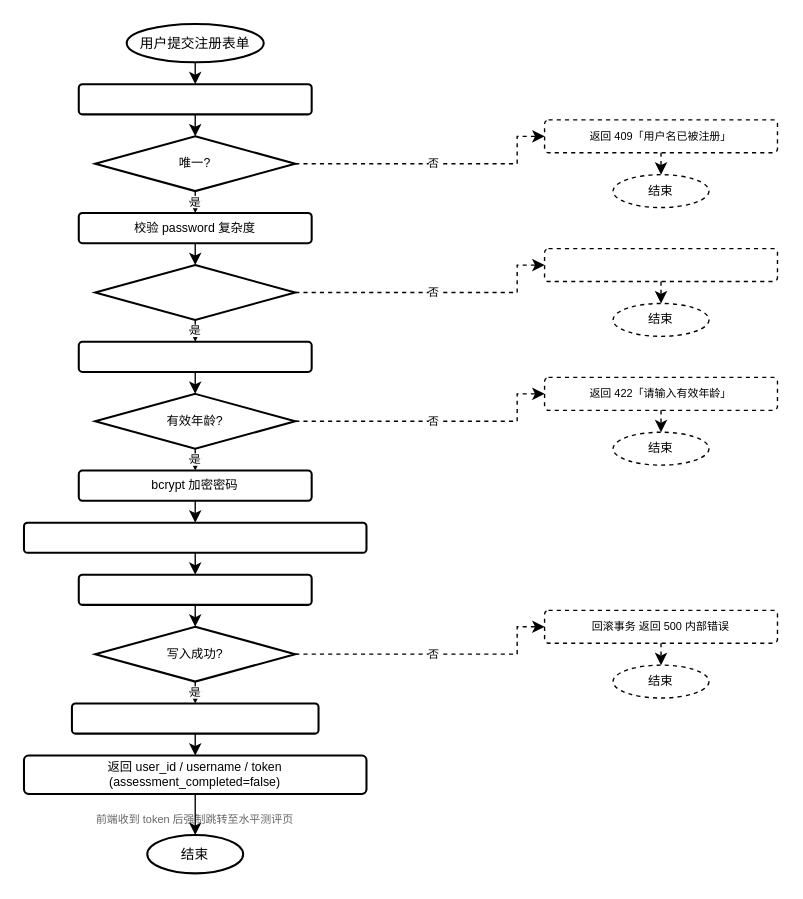
The diagram is 803 pixels wide and 899 high, and some of its shapes have lost their labels. The centre of each missing label's shape, as x and y in pixels:
≥8位含字母+数字?: [195,291]
写入 user_profiles 表: [194,589]
年龄归类 (儿童/青少年/大学生/职场/中老年): [194,537]
校验 age 合法性 (1-150): [194,356]
校验 username 唯一性: [194,99]
生成 JWT Token (24h 有效期): [194,718]
返回 422「密码需 8-32 位」: [660,264]
